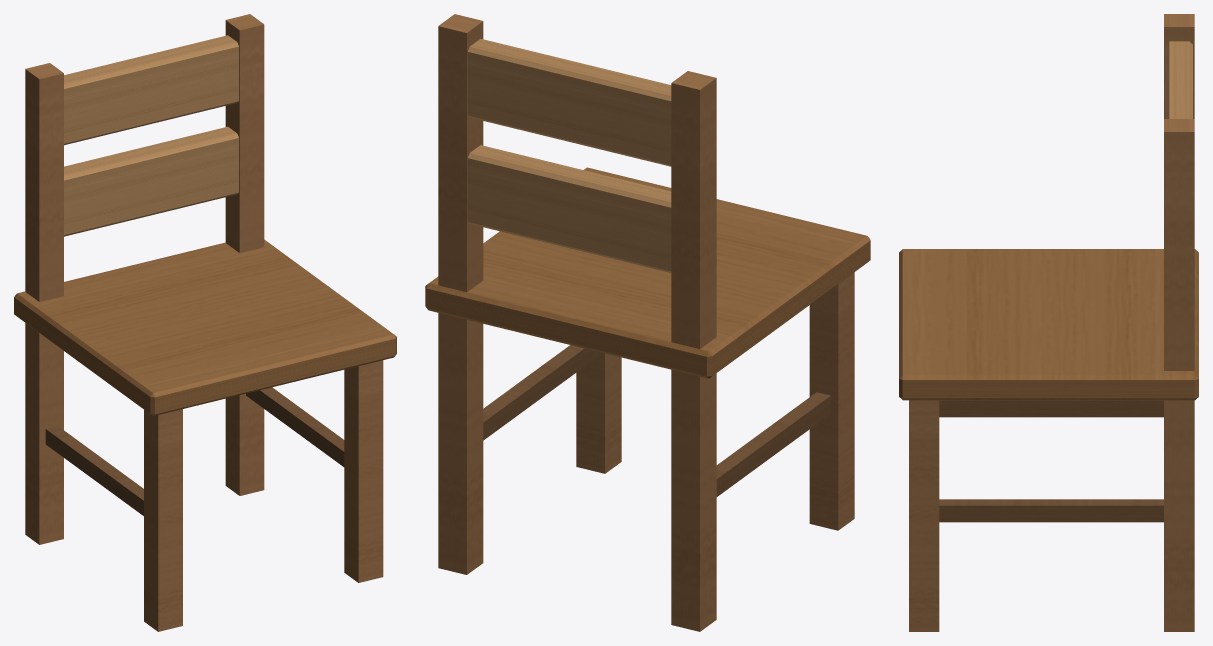
The model's file is dining_chair.glb.
The picture shows the model from 3 angles, left to right: view 1: azimuth 30°, elevation 25°; view 2: azimuth 150°, elevation 25°; view 3: azimuth 270°, elevation 25°; orthographic projection. The views are drawn at different scales.
Parts seen in each view (by area): view 1: home_dining_chair; view 2: home_dining_chair; view 3: home_dining_chair.
Part boxes in pixels (x1,y1,x2,y2): home_dining_chair: (14,14,396,631); home_dining_chair: (425,14,870,631); home_dining_chair: (899,14,1198,631).
Bounding box in the file's own units: 0.5 × 0.902 × 0.49.
1 material, 1 textured.
